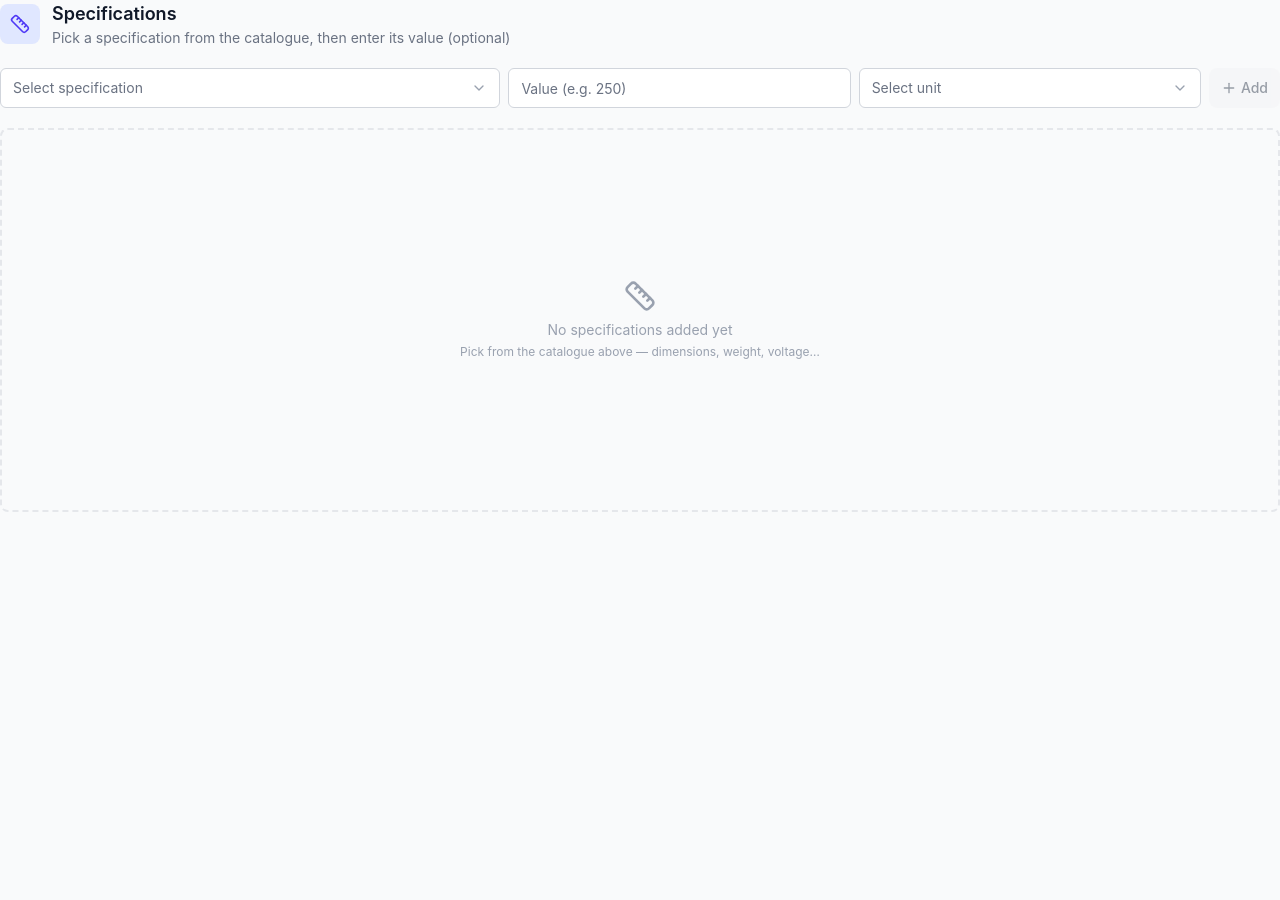
Test: SpecificationsStep › suggests the catalogue unit and adds the row
The width and height of the screenshot is (1280, 900).
Later steps or results of the test are not shown.
Click the button "Select specification" at (78, 88), box [0,68,500,108]
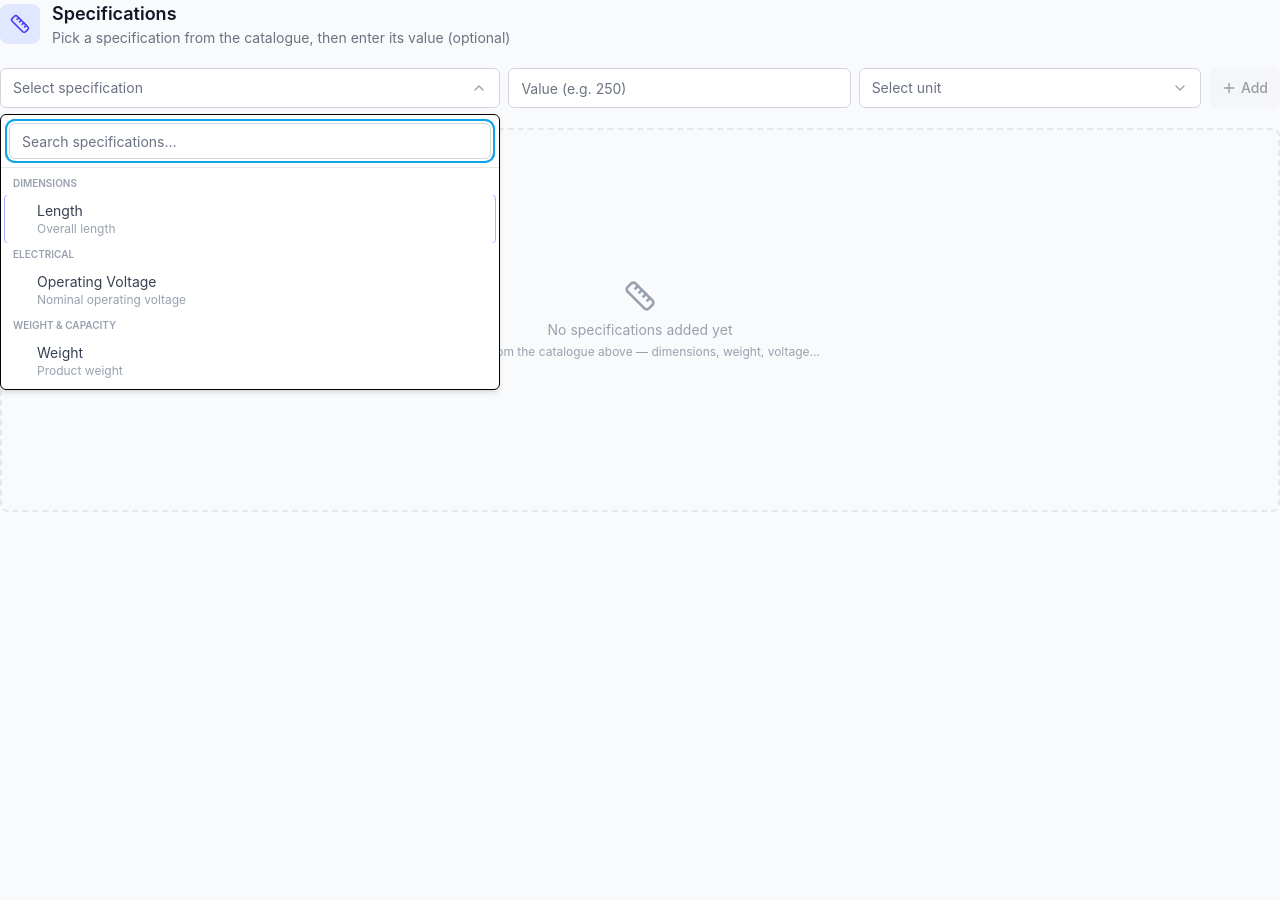
Click the option "Operating Voltage Nominal operating voltage" at (97, 282), box [5,266,495,314]
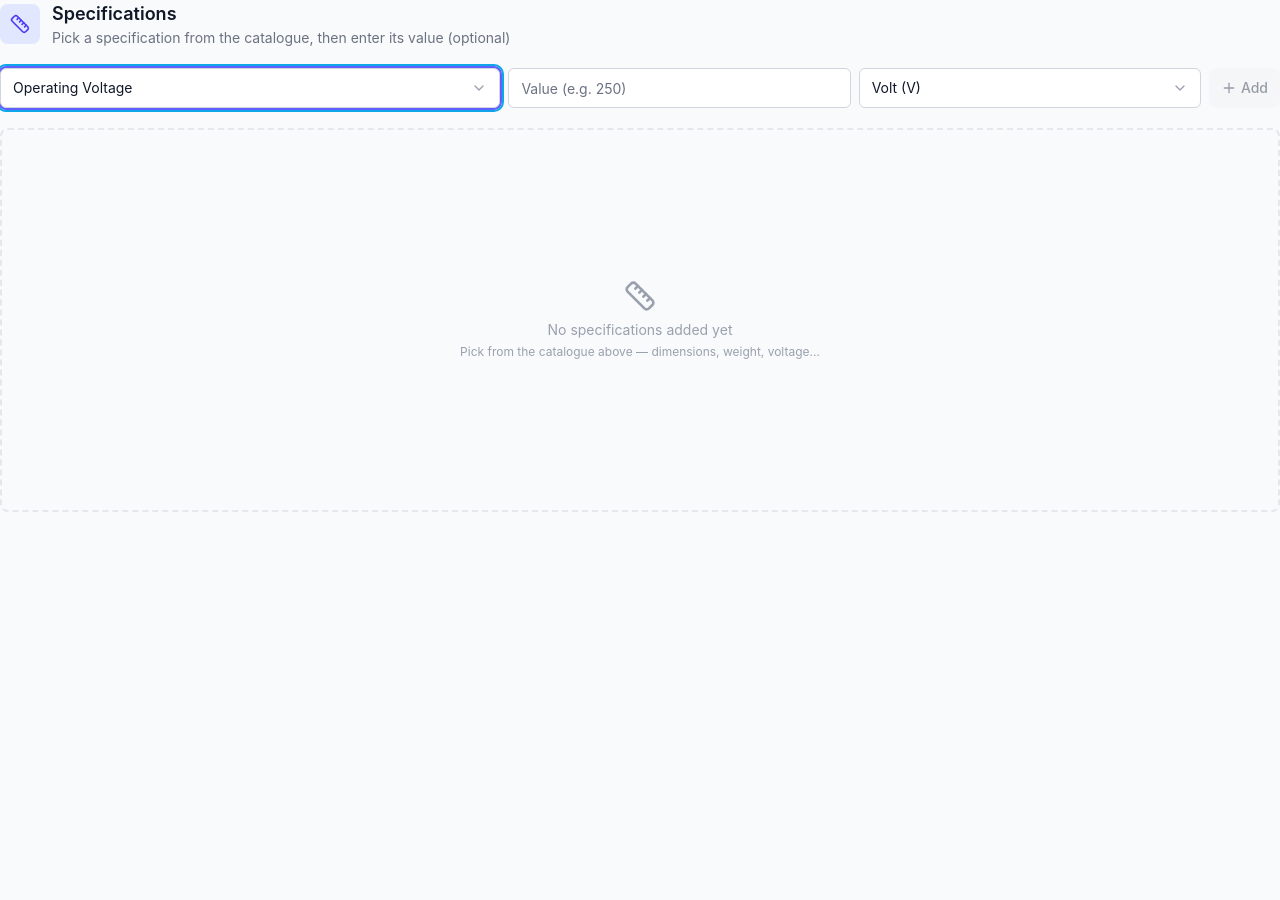
expect the button "Volt (V)" is shown: met, box [859,68,1201,108]
